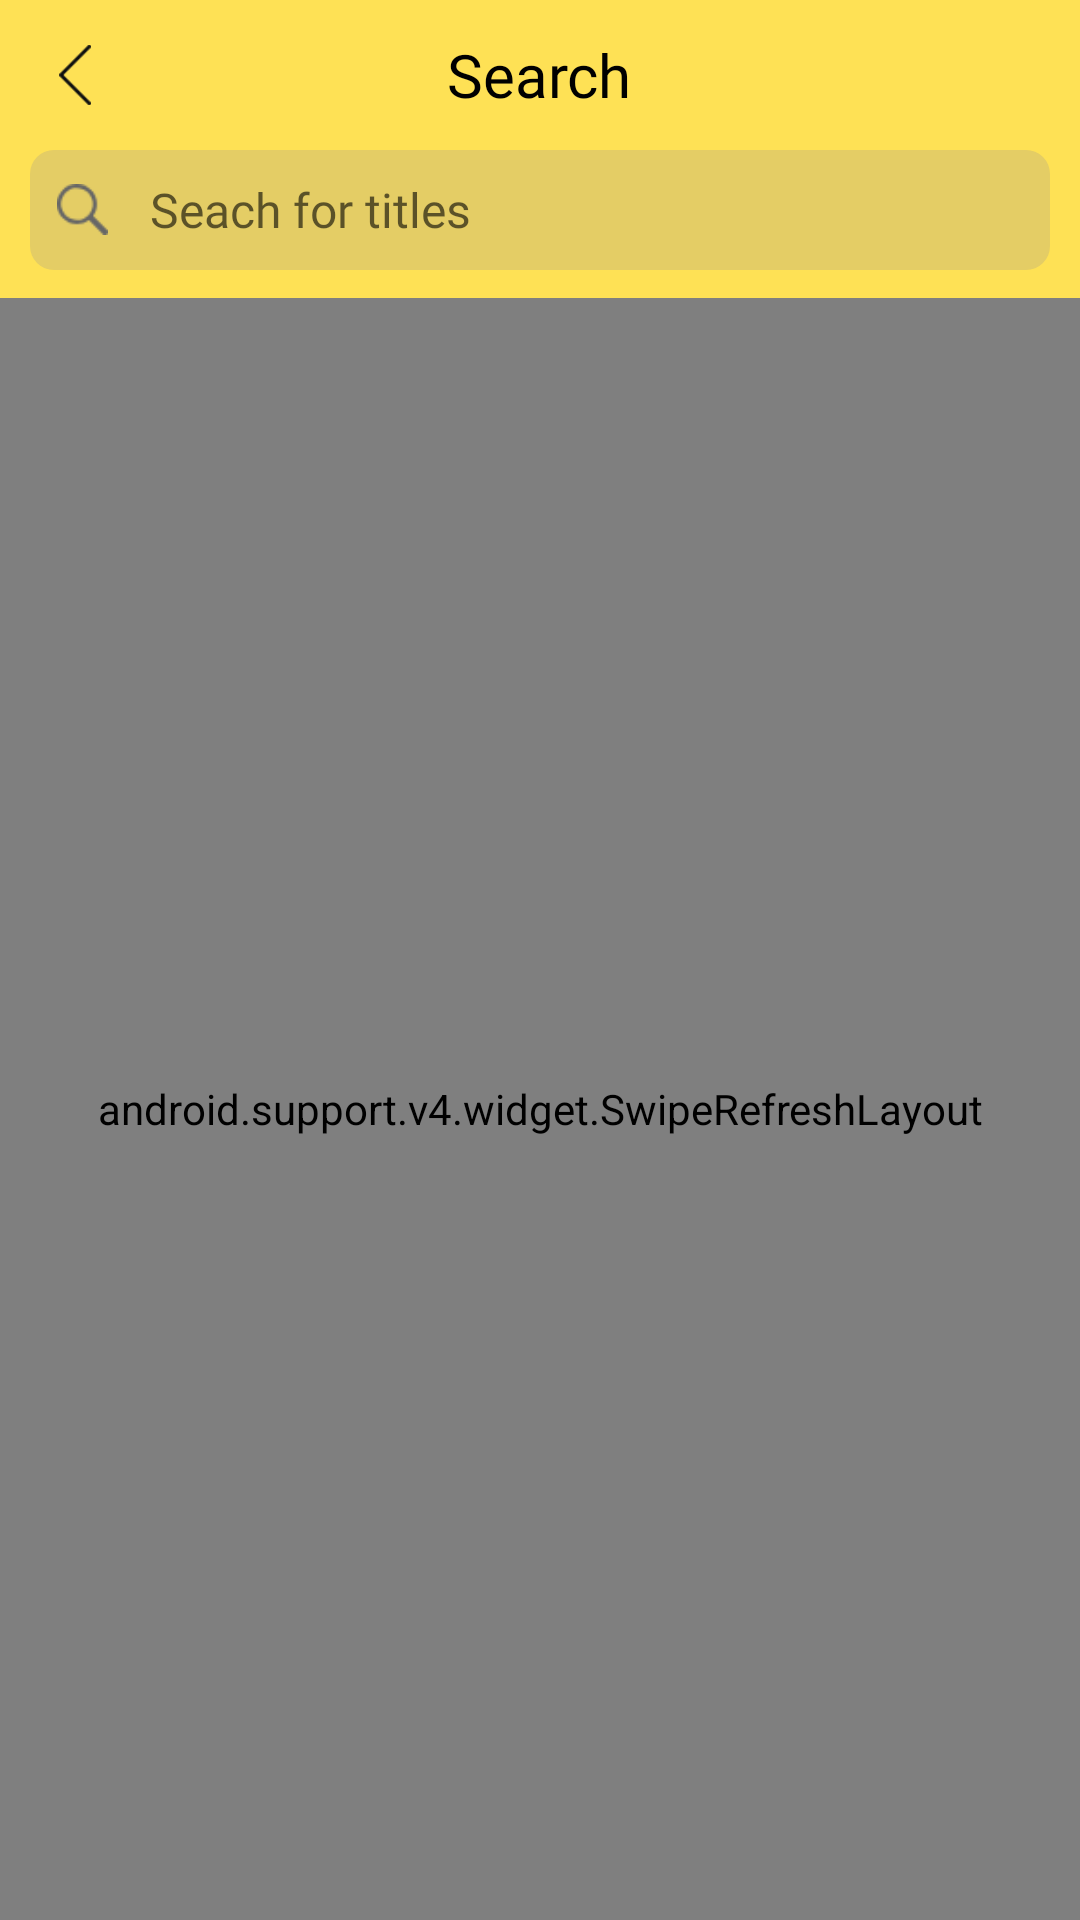

Screen size 1080 × 1920. Icon name, then its center in pixels as [x,y]:
back: [75,75]
searchmini: [82,209]
